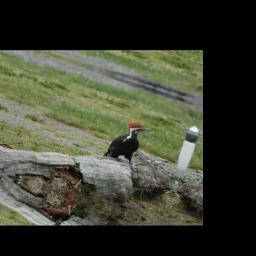Woodpecker: (102, 113, 155, 171)
